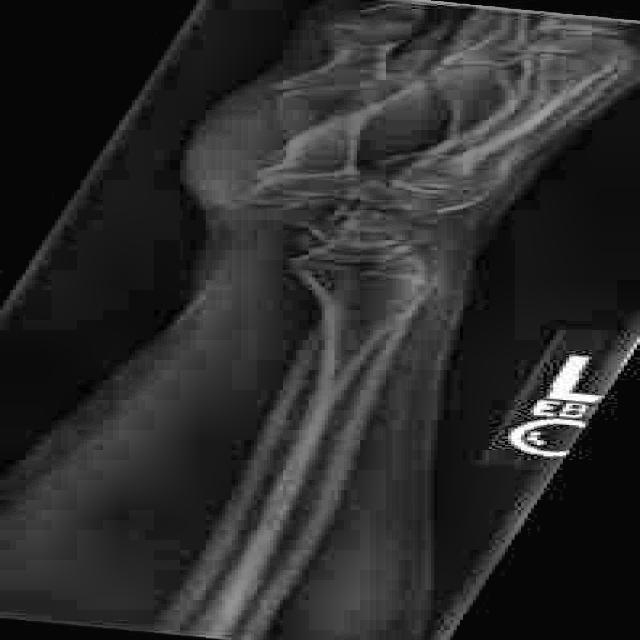fingers positive: (318, 272, 459, 310)
